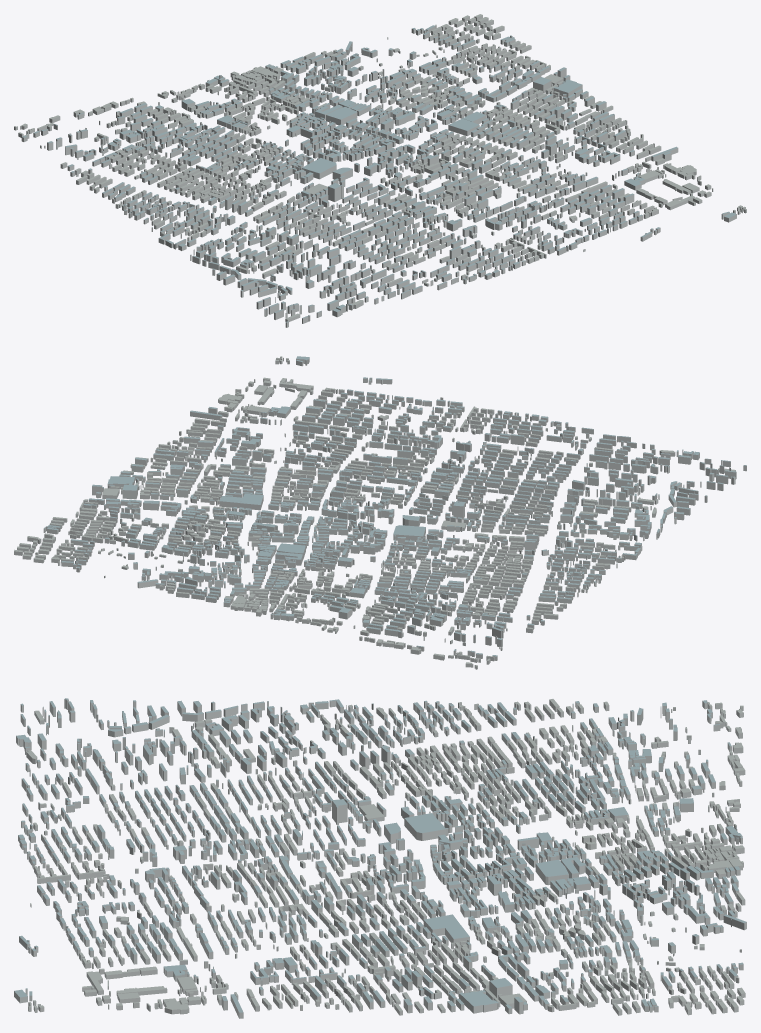
The model's file is far.glb.
3 views of the same model, one above another, from view 1: azimuth 30°, elevation 25°; view 2: azimuth 150°, elevation 25°; view 3: azimuth 270°, elevation 25° (orthographic). The views are drawn at different scales.
Size of the model in its own units: 2167 by 56.56 by 2132.
